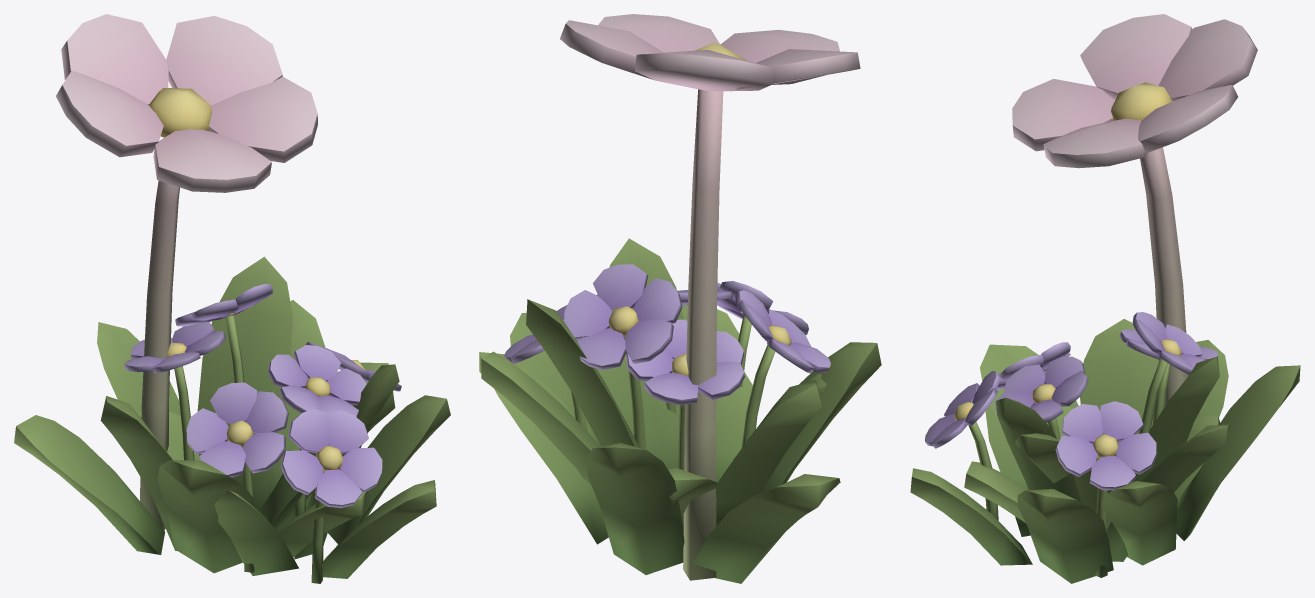
Rendered from flowers_mixed_c.glb.
The picture shows the model from 3 angles, left to right: view 1: azimuth 30°, elevation 25°; view 2: azimuth 150°, elevation 25°; view 3: azimuth 270°, elevation 25°; orthographic projection. The views are drawn at different scales.
Visible parts, largest first — view 1: Flowers_Mixed_C.001; view 2: Flowers_Mixed_C.001; view 3: Flowers_Mixed_C.001.
Boxes of the visible parts, <box> form: Flowers_Mixed_C.001: <box>14,14,450,583</box>; Flowers_Mixed_C.001: <box>479,14,881,583</box>; Flowers_Mixed_C.001: <box>910,14,1300,583</box>.
Bounding box in the file's own units: 0.4306 × 0.5871 × 0.436.
